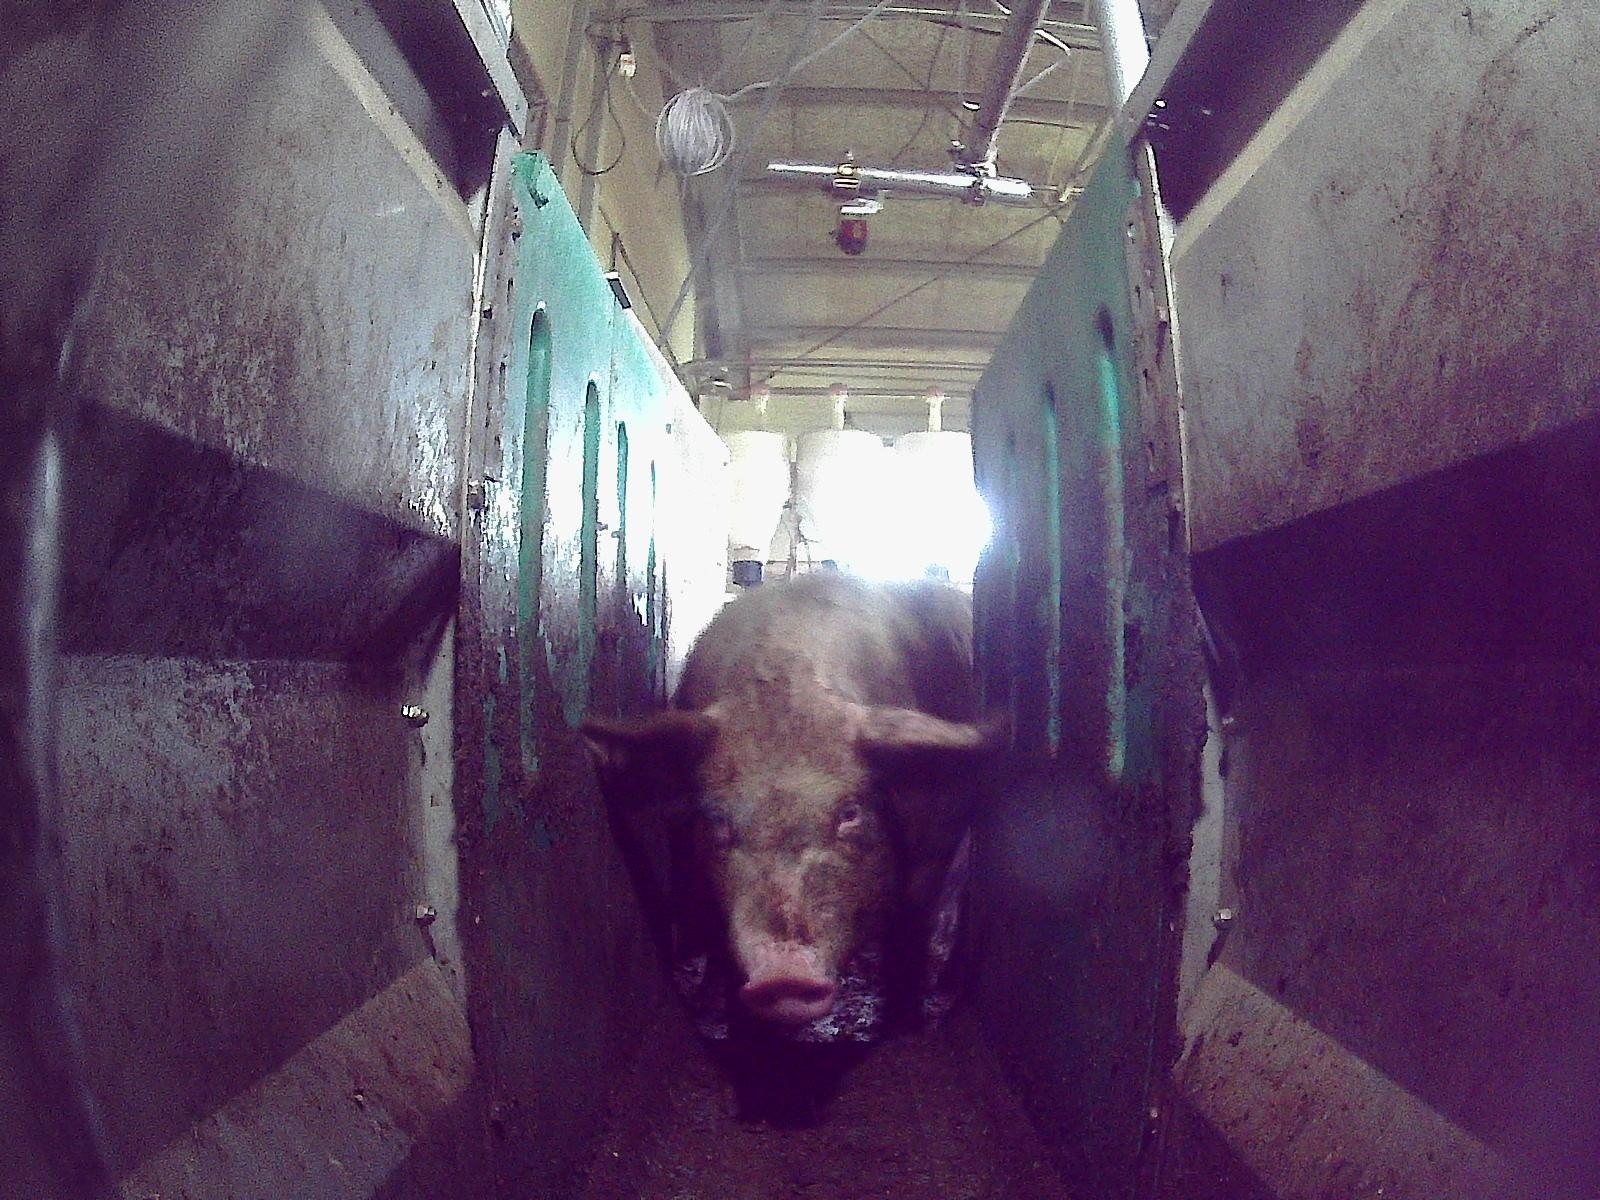Face: (688, 678, 904, 1029)
